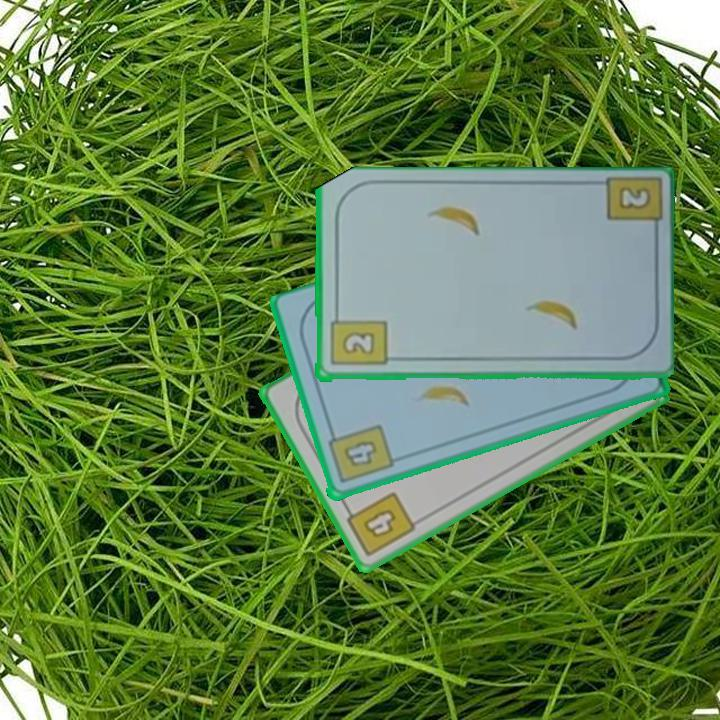2b: (327, 308, 388, 369), (614, 183, 650, 212)
4b: (340, 488, 419, 560), (324, 422, 396, 487)
